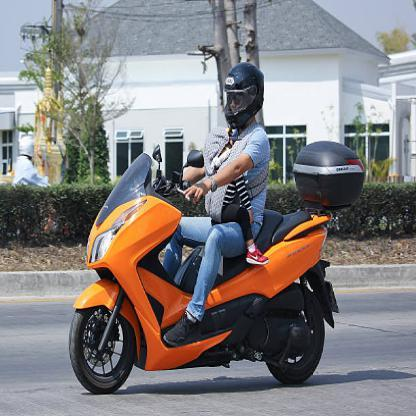Motorcycle: (64, 145, 352, 395)
